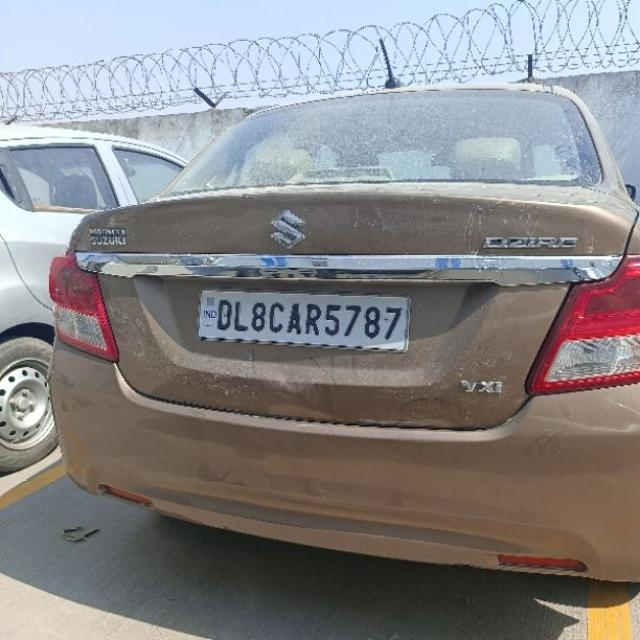license_plate: (196, 286, 411, 352)
